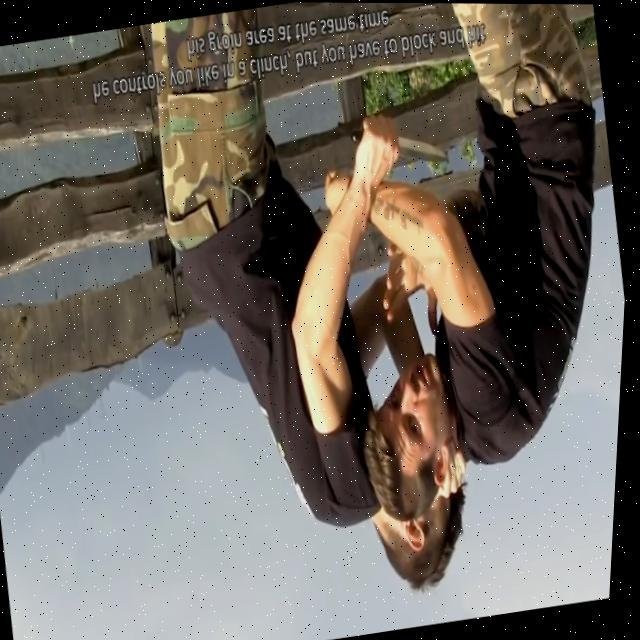knife: (399, 130, 451, 174)
